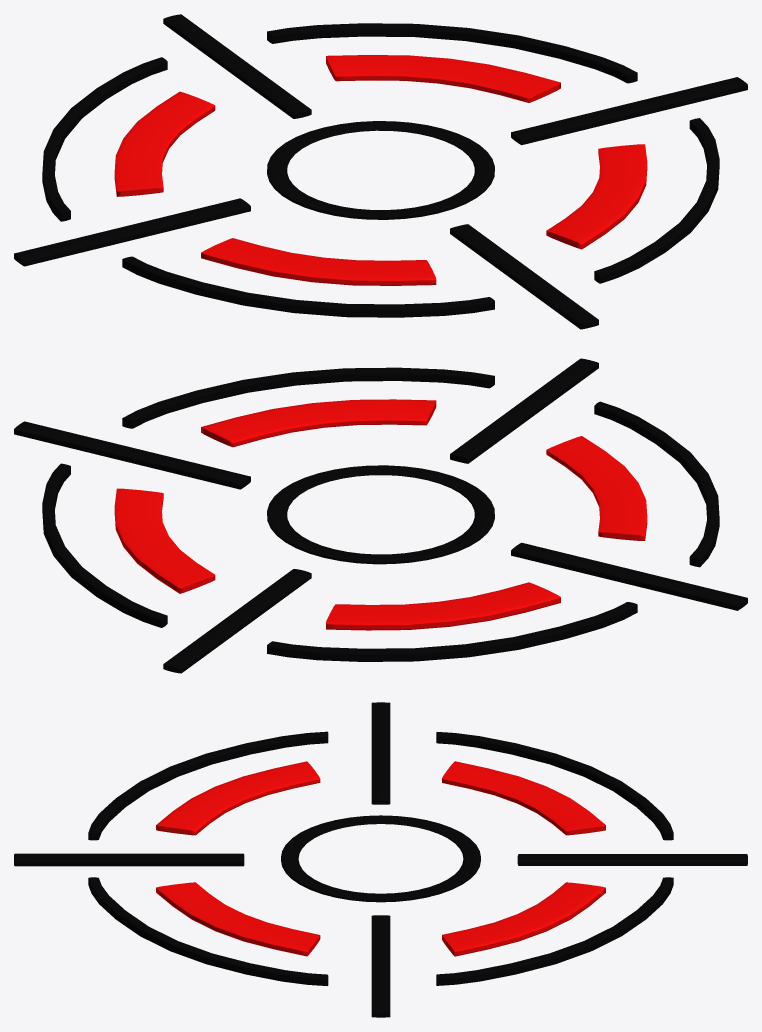
The model's file is M_Aim.fbx.
The picture shows the model from 3 angles, top to bottom: view 1: azimuth 30°, elevation 25°; view 2: azimuth 150°, elevation 25°; view 3: azimuth 270°, elevation 25°; orthographic projection. The views are drawn at different scales.
Visible parts, largest first — view 1: AIM; view 2: AIM; view 3: AIM.
Boxes of the visible parts, x1,y1,x2,y2 form: AIM: [14, 14, 747, 329]; AIM: [14, 358, 747, 673]; AIM: [14, 702, 747, 1017].
Size of the model in its own units: 22.42 by 0.2665 by 22.42.
